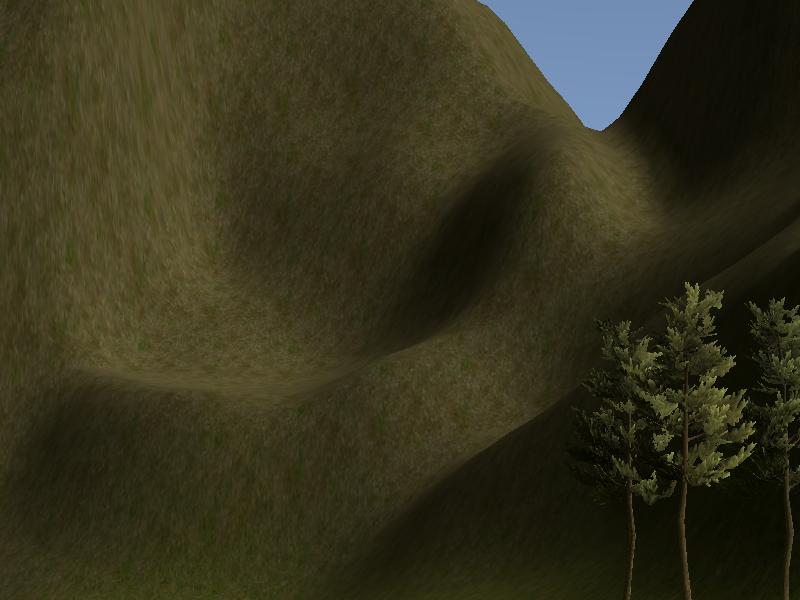background: (2, 1, 798, 596)
